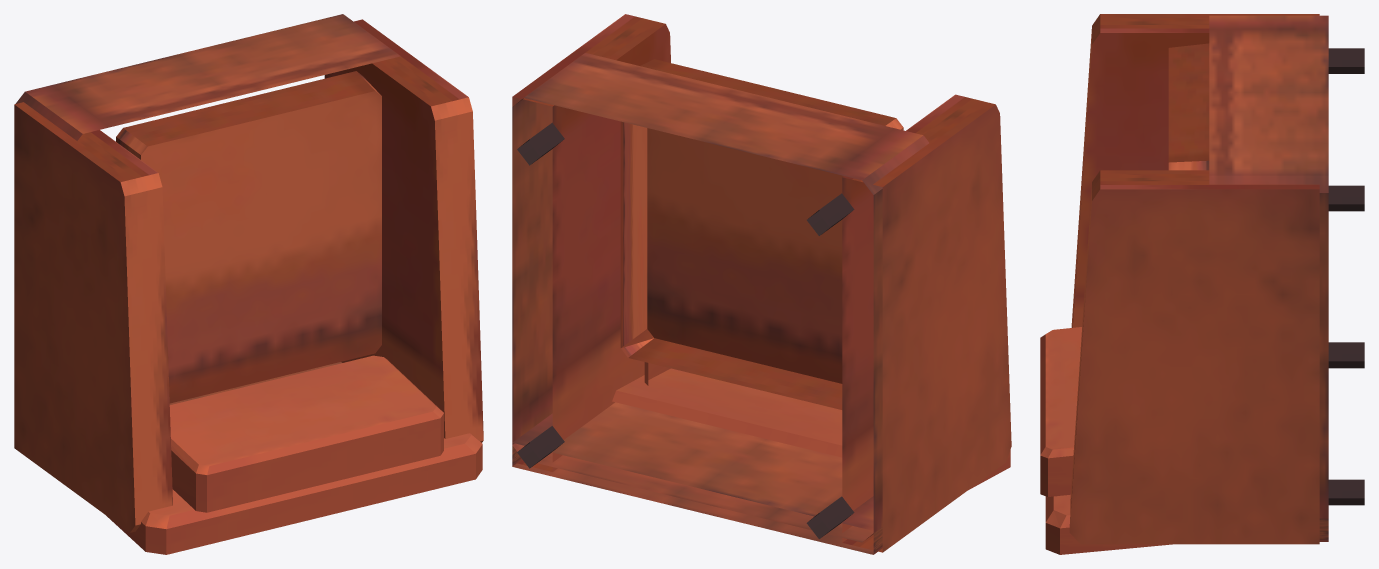
File: pz_chair_seating_indoor_01_red_comfy_fidelity_r1.obj
3 views of the same model, side by side, from view 1: azimuth 30°, elevation 25°; view 2: azimuth 150°, elevation 25°; view 3: azimuth 270°, elevation 25° (orthographic). The views are drawn at different scales.
Parts seen in each view (by area): view 1: pz_chair_seating_indoor_01_red_comfy__seat_0__seat, pz_chair_seating_indoor_01_red_comfy__straight_arm_-1__arm, pz_chair_seating_indoor_01_red_comfy__straight_arm_1__arm, pz_chair_seating_indoor_01_red_comfy__back_cushion_0__back, pz_chair_seating_indoor_01_red_comfy__lower_body__body, pz_chair_seating_indoor_01_red_comfy__rear_shell__back; view 2: pz_chair_seating_indoor_01_red_comfy__straight_arm_-1__arm, pz_chair_seating_indoor_01_red_comfy__seat_0__seat, pz_chair_seating_indoor_01_red_comfy__lower_body__body, pz_chair_seating_indoor_01_red_comfy__straight_arm_1__arm, pz_chair_seating_indoor_01_red_comfy__rear_body_bridge__body, pz_chair_seating_indoor_01_red_comfy__rear_shell__back, pz_chair_seating_indoor_01_red_comfy__foot_-1_1__frame, pz_chair_seating_indoor_01_red_comfy__foot_-1_-1__frame, pz_chair_seating_indoor_01_red_comfy__foot_1_1__frame, pz_chair_seating_indoor_01_red_comfy__foot_1_-1__frame; view 3: pz_chair_seating_indoor_01_red_comfy__straight_arm_1__arm, pz_chair_seating_indoor_01_red_comfy__lower_body__body, pz_chair_seating_indoor_01_red_comfy__straight_arm_-1__arm, pz_chair_seating_indoor_01_red_comfy__back_cushion_0__back, pz_chair_seating_indoor_01_red_comfy__seat_0__seat, pz_chair_seating_indoor_01_red_comfy__rear_shell__back, pz_chair_seating_indoor_01_red_comfy__foot_-1_-1__frame, pz_chair_seating_indoor_01_red_comfy__foot_1_-1__frame, pz_chair_seating_indoor_01_red_comfy__foot_1_1__frame, pz_chair_seating_indoor_01_red_comfy__foot_-1_1__frame.
Boxes of the visible parts, x1,y1,x2,y2 form: pz_chair_seating_indoor_01_red_comfy__seat_0__seat: (116,71,381,403); pz_chair_seating_indoor_01_red_comfy__straight_arm_-1__arm: (14,102,172,532); pz_chair_seating_indoor_01_red_comfy__straight_arm_1__arm: (324,19,483,442); pz_chair_seating_indoor_01_red_comfy__back_cushion_0__back: (169,355,443,512); pz_chair_seating_indoor_01_red_comfy__lower_body__body: (15,14,403,140); pz_chair_seating_indoor_01_red_comfy__rear_shell__back: (106,433,482,554); pz_chair_seating_indoor_01_red_comfy__straight_arm_-1__arm: (842,94,1011,552); pz_chair_seating_indoor_01_red_comfy__seat_0__seat: (620,59,903,409); pz_chair_seating_indoor_01_red_comfy__lower_body__body: (512,53,928,542); pz_chair_seating_indoor_01_red_comfy__straight_arm_1__arm: (512,14,670,471); pz_chair_seating_indoor_01_red_comfy__rear_body_bridge__body: (512,402,882,554); pz_chair_seating_indoor_01_red_comfy__rear_shell__back: (612,368,1010,489); pz_chair_seating_indoor_01_red_comfy__foot_-1_1__frame: (807,193,854,235); pz_chair_seating_indoor_01_red_comfy__foot_-1_-1__frame: (806,496,854,538); pz_chair_seating_indoor_01_red_comfy__foot_1_1__frame: (517,122,564,165); pz_chair_seating_indoor_01_red_comfy__foot_1_-1__frame: (517,426,564,468); pz_chair_seating_indoor_01_red_comfy__straight_arm_1__arm: (1069,170,1319,544); pz_chair_seating_indoor_01_red_comfy__lower_body__body: (1209,15,1328,520); pz_chair_seating_indoor_01_red_comfy__straight_arm_-1__arm: (1071,14,1319,327); pz_chair_seating_indoor_01_red_comfy__back_cushion_0__back: (1040,327,1081,496); pz_chair_seating_indoor_01_red_comfy__seat_0__seat: (1168,43,1209,170); pz_chair_seating_indoor_01_red_comfy__rear_shell__back: (1045,494,1172,554); pz_chair_seating_indoor_01_red_comfy__foot_-1_-1__frame: (1328,342,1364,368); pz_chair_seating_indoor_01_red_comfy__foot_1_-1__frame: (1328,479,1364,505); pz_chair_seating_indoor_01_red_comfy__foot_1_1__frame: (1328,185,1364,211); pz_chair_seating_indoor_01_red_comfy__foot_-1_1__frame: (1328,48,1364,73).
Bounding box in the file's own units: 0.9027 × 0.9013 × 0.7056.
1 material, 1 textured.
